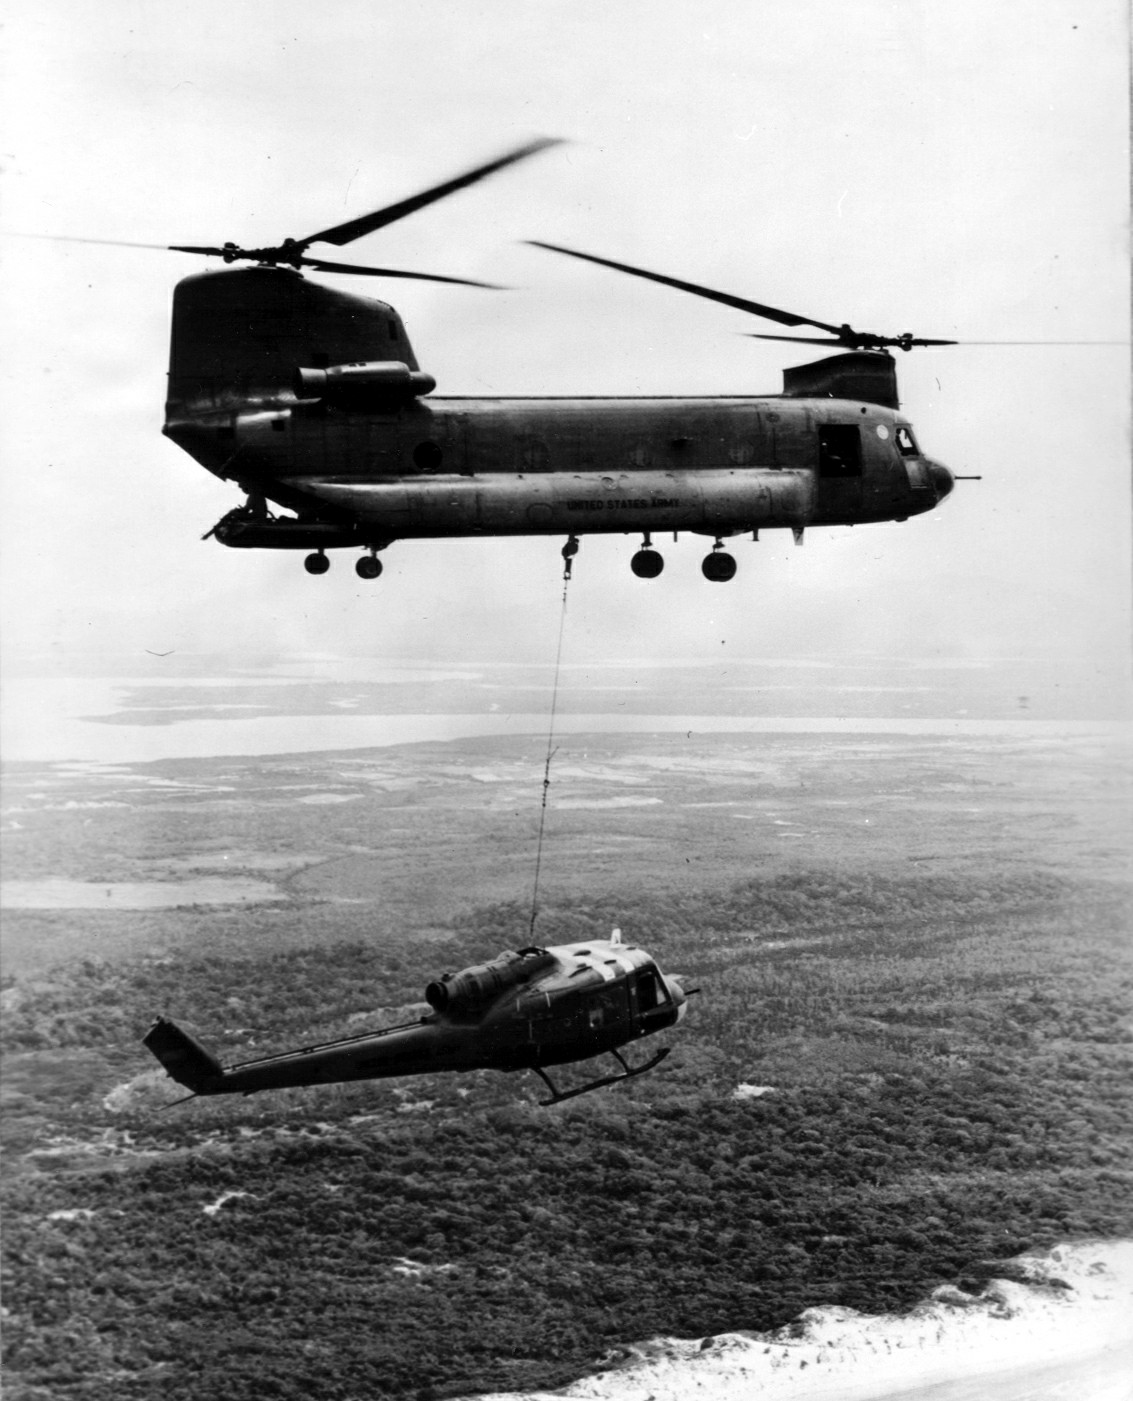chinook: (80, 179, 1059, 579)
